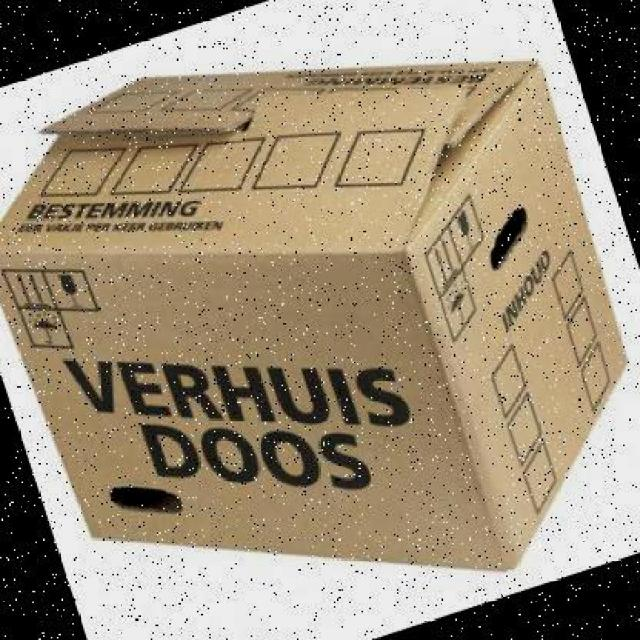box: (1, 60, 628, 572)
normal_hole: (488, 206, 527, 271), (110, 485, 184, 515)
